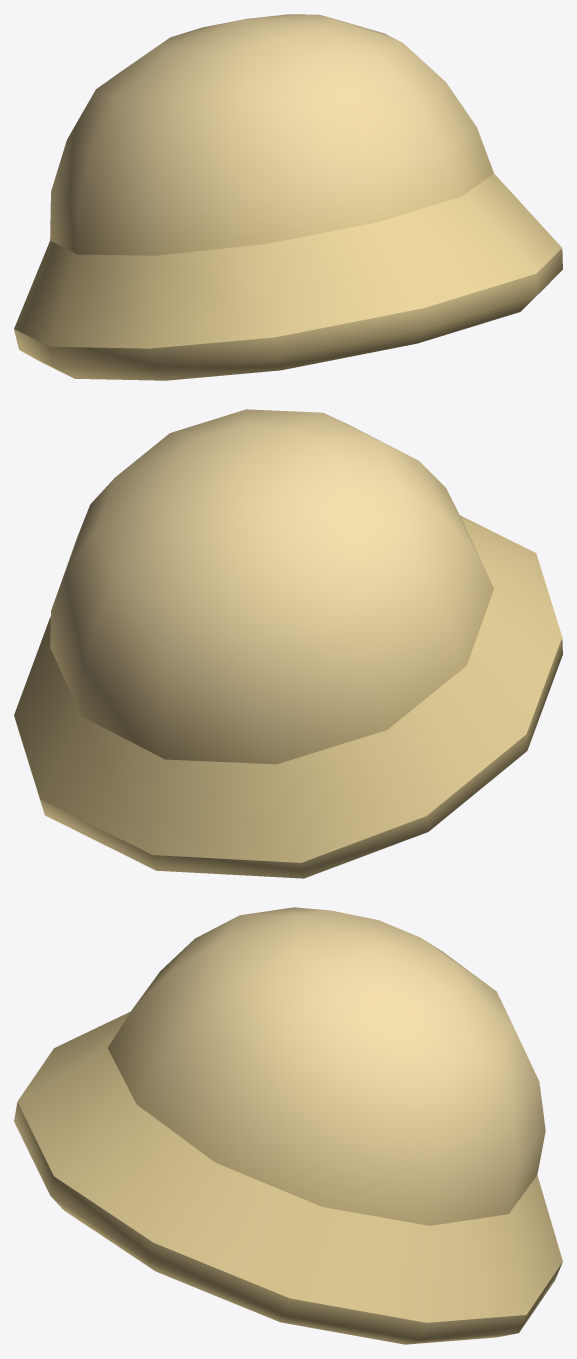
File: Headgear_9.fbx
3 renders of one model, top to bottom at view 1: azimuth 30°, elevation 25°; view 2: azimuth 150°, elevation 25°; view 3: azimuth 270°, elevation 25°, orthographic.
Visible parts, largest first — view 1: Headgear_9; view 2: Headgear_9; view 3: Headgear_9.
Boxes of the visible parts, x1=… form: Headgear_9: x1=14, y1=14, x2=562, y2=380; Headgear_9: x1=14, y1=409, x2=562, y2=878; Headgear_9: x1=14, y1=907, x2=562, y2=1344.
Size of the model in its own units: 77.17 by 54.79 by 76.57.
